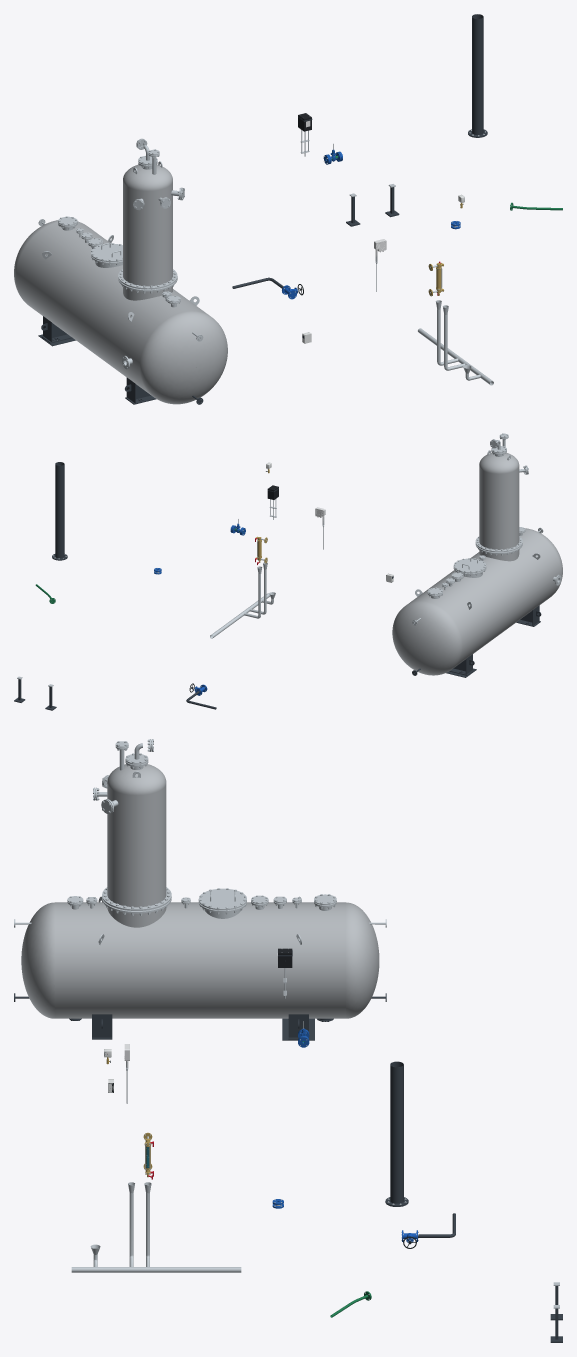
The picture shows the model from 3 angles, top to bottom: view 1: azimuth 30°, elevation 25°; view 2: azimuth 150°, elevation 25°; view 3: azimuth 270°, elevation 25°; orthographic projection. The views are drawn at different scales.
Parts seen in each view (by area): view 1: deaerator CAD solid 56, deaerator CAD solid 257, bdv_vent / dark, local_open_drains / steel, deaerator CAD solid 408; view 2: deaerator CAD solid 56, deaerator CAD solid 257, bdv_vent / dark, local_open_drains / steel, deaerator CAD solid 408; view 3: deaerator CAD solid 56, deaerator CAD solid 257, bdv_vent / dark, local_open_drains / steel, deaerator CAD solid 408.
Boxes of the visible parts, <box> form: deaerator CAD solid 56: <box>14,220,227,404</box>; deaerator CAD solid 257: <box>123,164,172,286</box>; bdv_vent / dark: <box>468,14,487,137</box>; local_open_drains / steel: <box>418,300,493,385</box>; deaerator CAD solid 408: <box>91,243,122,261</box>; deaerator CAD solid 56: <box>392,528,562,675</box>; deaerator CAD solid 257: <box>479,453,519,549</box>; bdv_vent / dark: <box>52,462,67,560</box>; local_open_drains / steel: <box>210,562,275,638</box>; deaerator CAD solid 408: <box>453,558,486,573</box>; deaerator CAD solid 56: <box>21,902,379,1018</box>; deaerator CAD solid 257: <box>107,764,166,907</box>; bdv_vent / dark: <box>385,1061,408,1206</box>; local_open_drains / steel: <box>71,1182,241,1272</box>; deaerator CAD solid 408: <box>198,888,246,910</box>.
Bounding box in the file's own units: 9.07 × 4.82 × 6.7.
